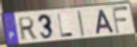3: (37, 13, 56, 42)
A: (95, 9, 115, 36)
F: (111, 6, 130, 35)
I: (77, 10, 87, 38)
L: (57, 13, 75, 38)
R: (18, 15, 38, 42)
